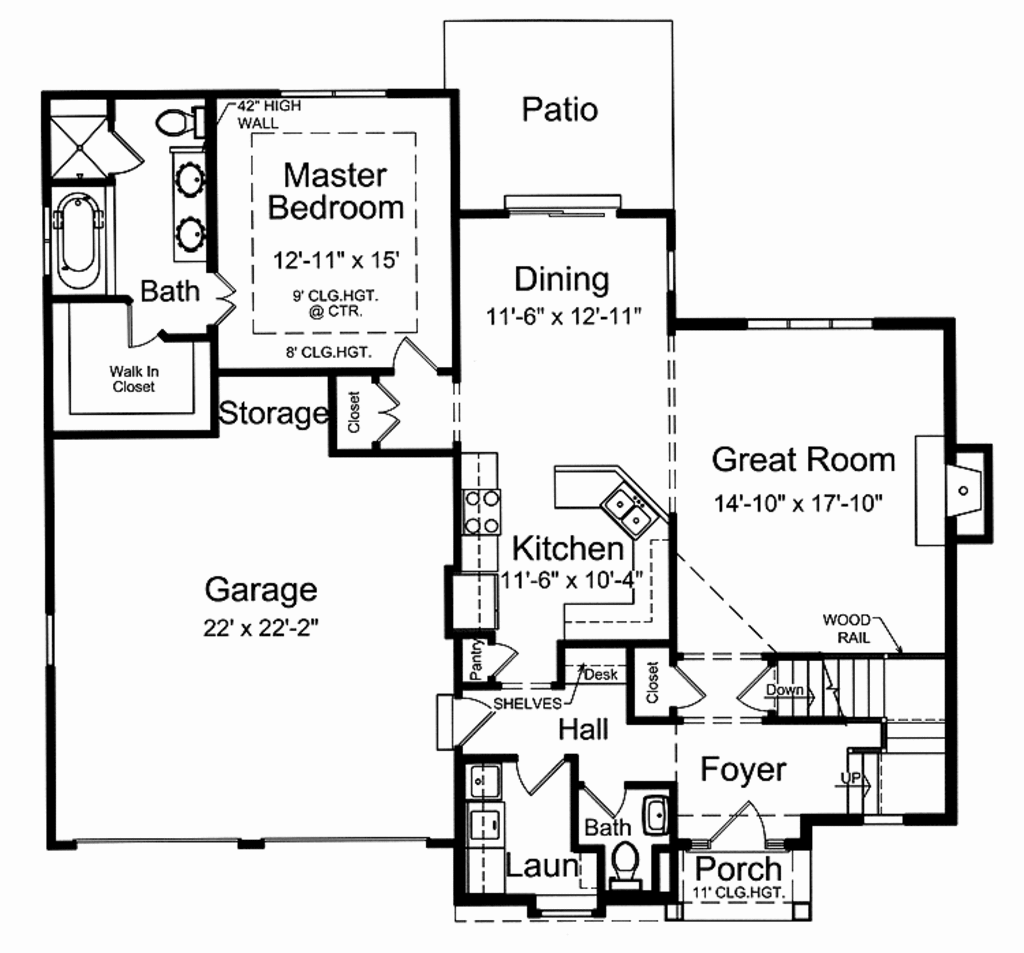door: (435, 695, 495, 757), (714, 804, 768, 859), (365, 376, 401, 449), (510, 754, 565, 797), (119, 304, 165, 353), (577, 779, 629, 822), (386, 330, 433, 375), (668, 662, 712, 709), (107, 128, 142, 185)
kitchen_bar: (539, 456, 660, 548)
large_sink: (149, 99, 212, 141), (603, 838, 646, 898)
small_sink: (170, 151, 209, 263)
stairs: (768, 655, 949, 819)
tub: (52, 187, 112, 301)
windows: (490, 191, 625, 222), (734, 315, 877, 334), (280, 85, 397, 104)
